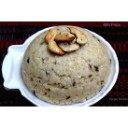venpongal: (24, 29, 108, 102)
